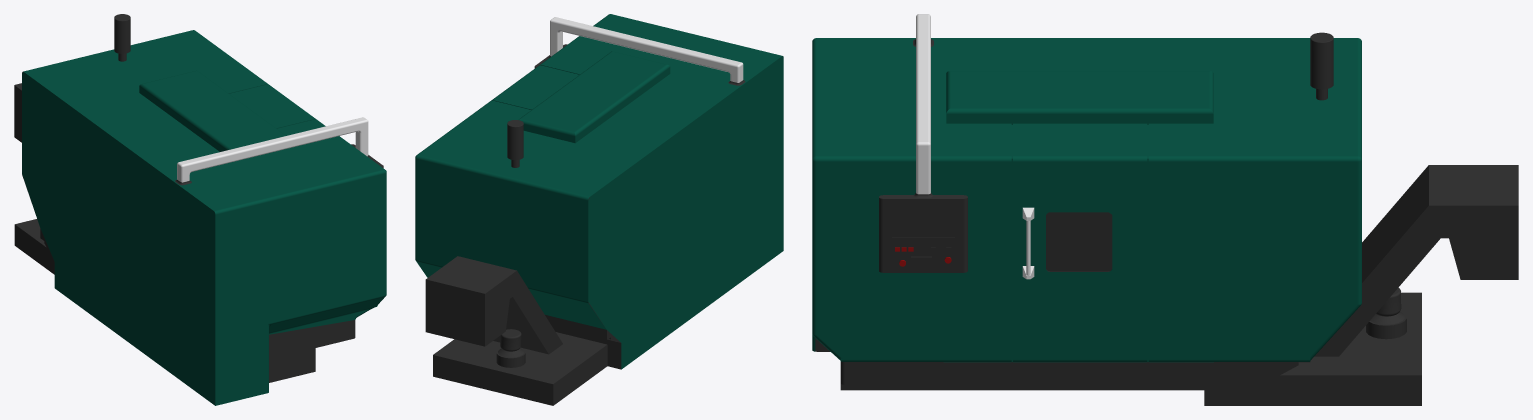
Rendered from INDEX C200-4d.fbx.
3 renders of one model, left to right at view 1: azimuth 30°, elevation 25°; view 2: azimuth 150°, elevation 25°; view 3: azimuth 270°, elevation 25°, orthographic. The views are drawn at different scales.
Parts seen in each view (by area): view 1: Âûðåç-Âûòÿíóòü9; view 2: Âûðåç-Âûòÿíóòü9; view 3: Âûðåç-Âûòÿíóòü9.
Boxes of the visible parts, <box> form: Âûðåç-Âûòÿíóòü9: <box>14,14,386,405</box>; Âûðåç-Âûòÿíóòü9: <box>415,14,783,405</box>; Âûðåç-Âûòÿíóòü9: <box>812,14,1518,405</box>.
Bounding box in the file's own units: 215 × 250 × 476.
